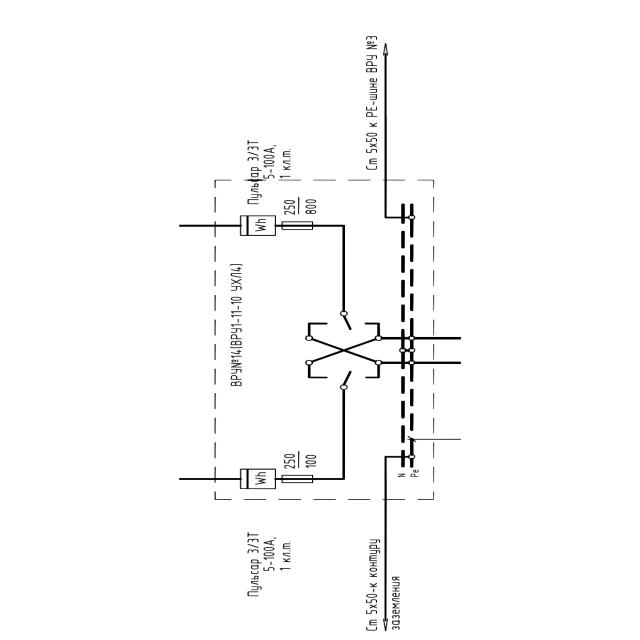-: (242, 136, 294, 206), (242, 530, 294, 600), (225, 258, 248, 391), (281, 450, 317, 471), (283, 196, 318, 216)
FU: (280, 474, 316, 484), (280, 220, 314, 230)
WH: (238, 466, 278, 491), (238, 213, 276, 236)
switch: (320, 313, 368, 332), (324, 368, 368, 388)
